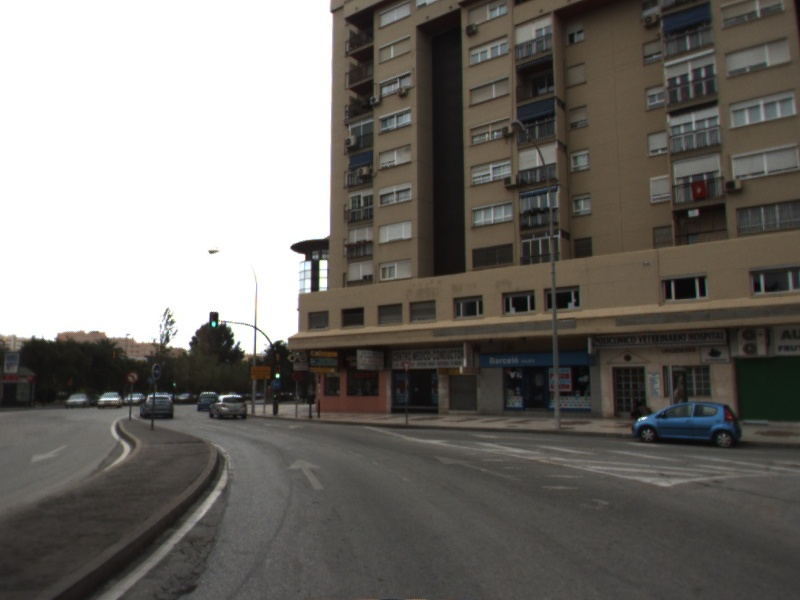STRAIGHT: (432, 453, 525, 483), (284, 456, 327, 493)
